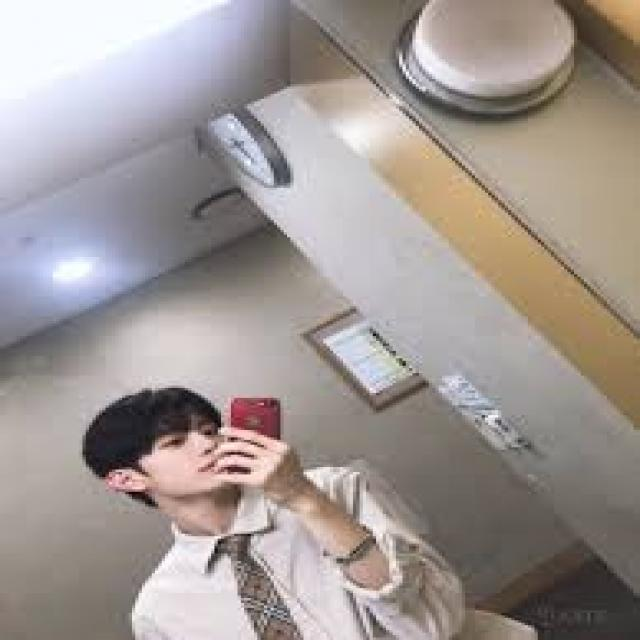Phone: (230, 394, 285, 440)
